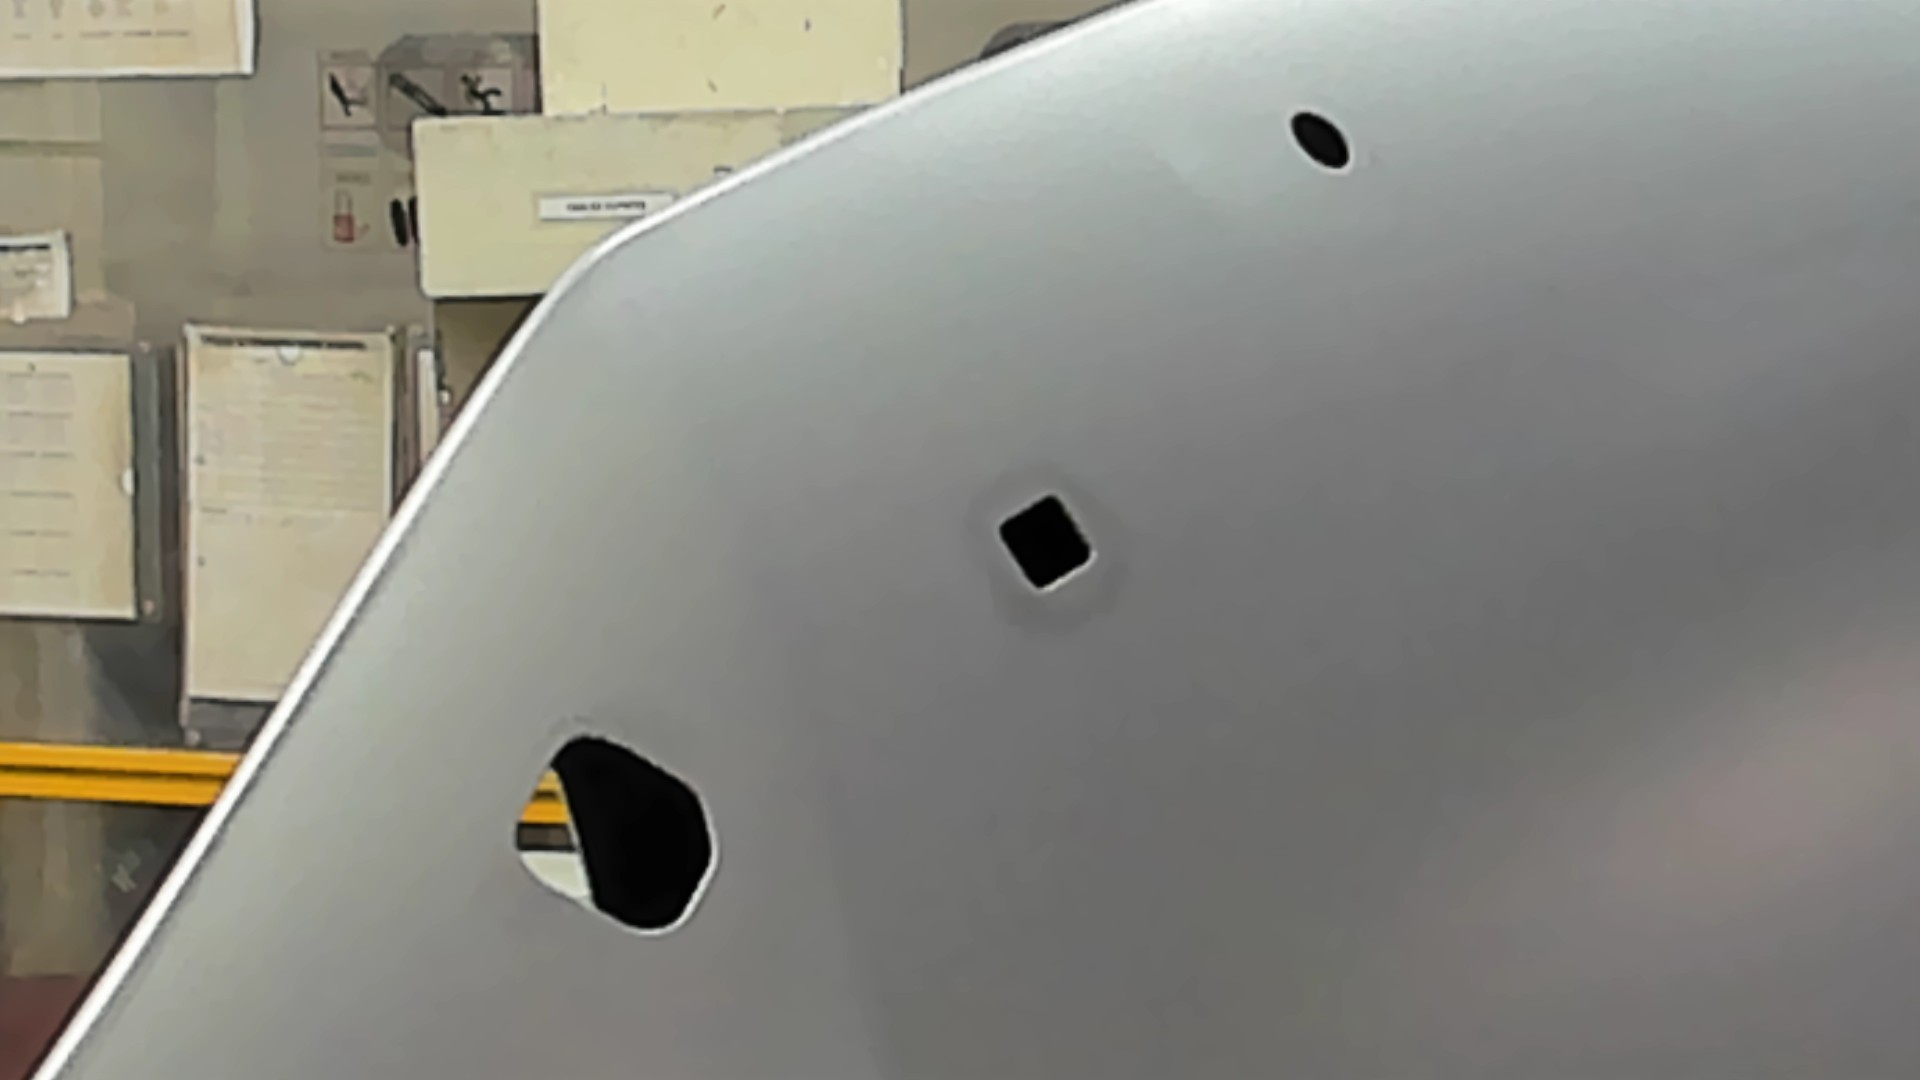chico: (1287, 109, 1354, 171)
grande: (512, 729, 724, 942)
mediano: (996, 491, 1098, 593)
